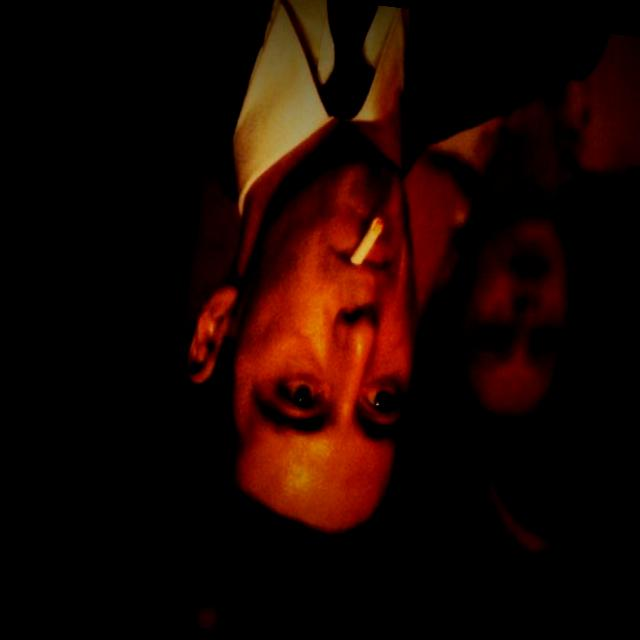cigarette: (350, 211, 386, 273)
